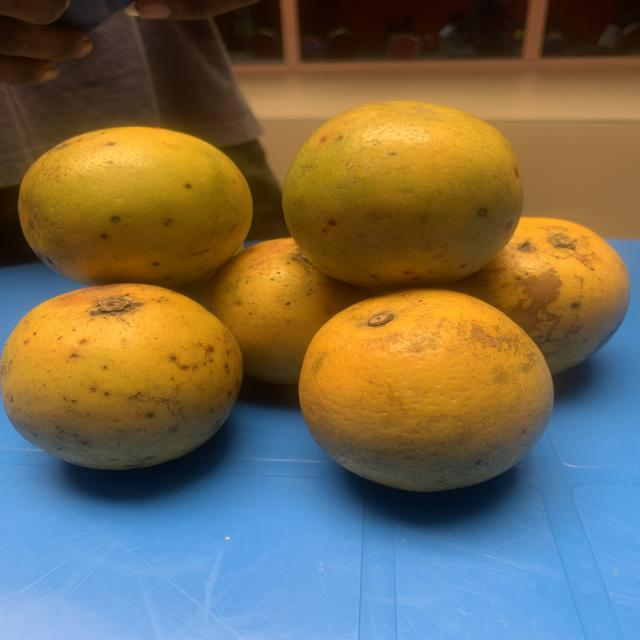Ripe orange: (298, 286, 572, 500), (0, 271, 246, 473), (286, 102, 525, 294), (472, 212, 633, 386)
